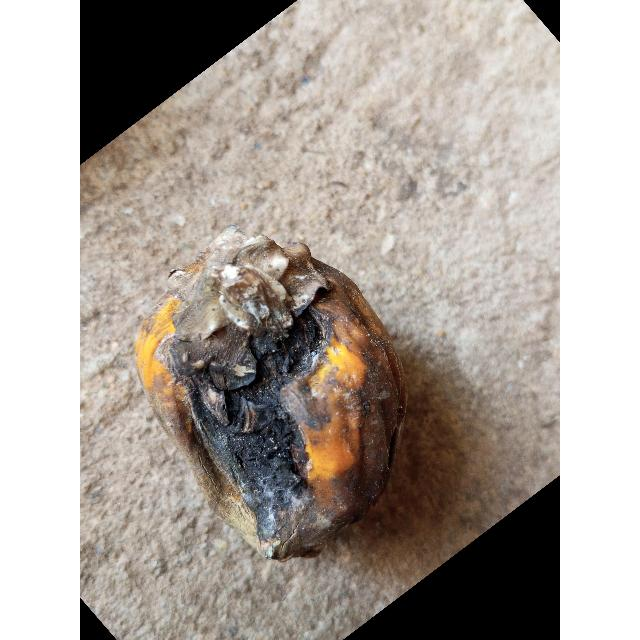damaged: (136, 226, 407, 561)
